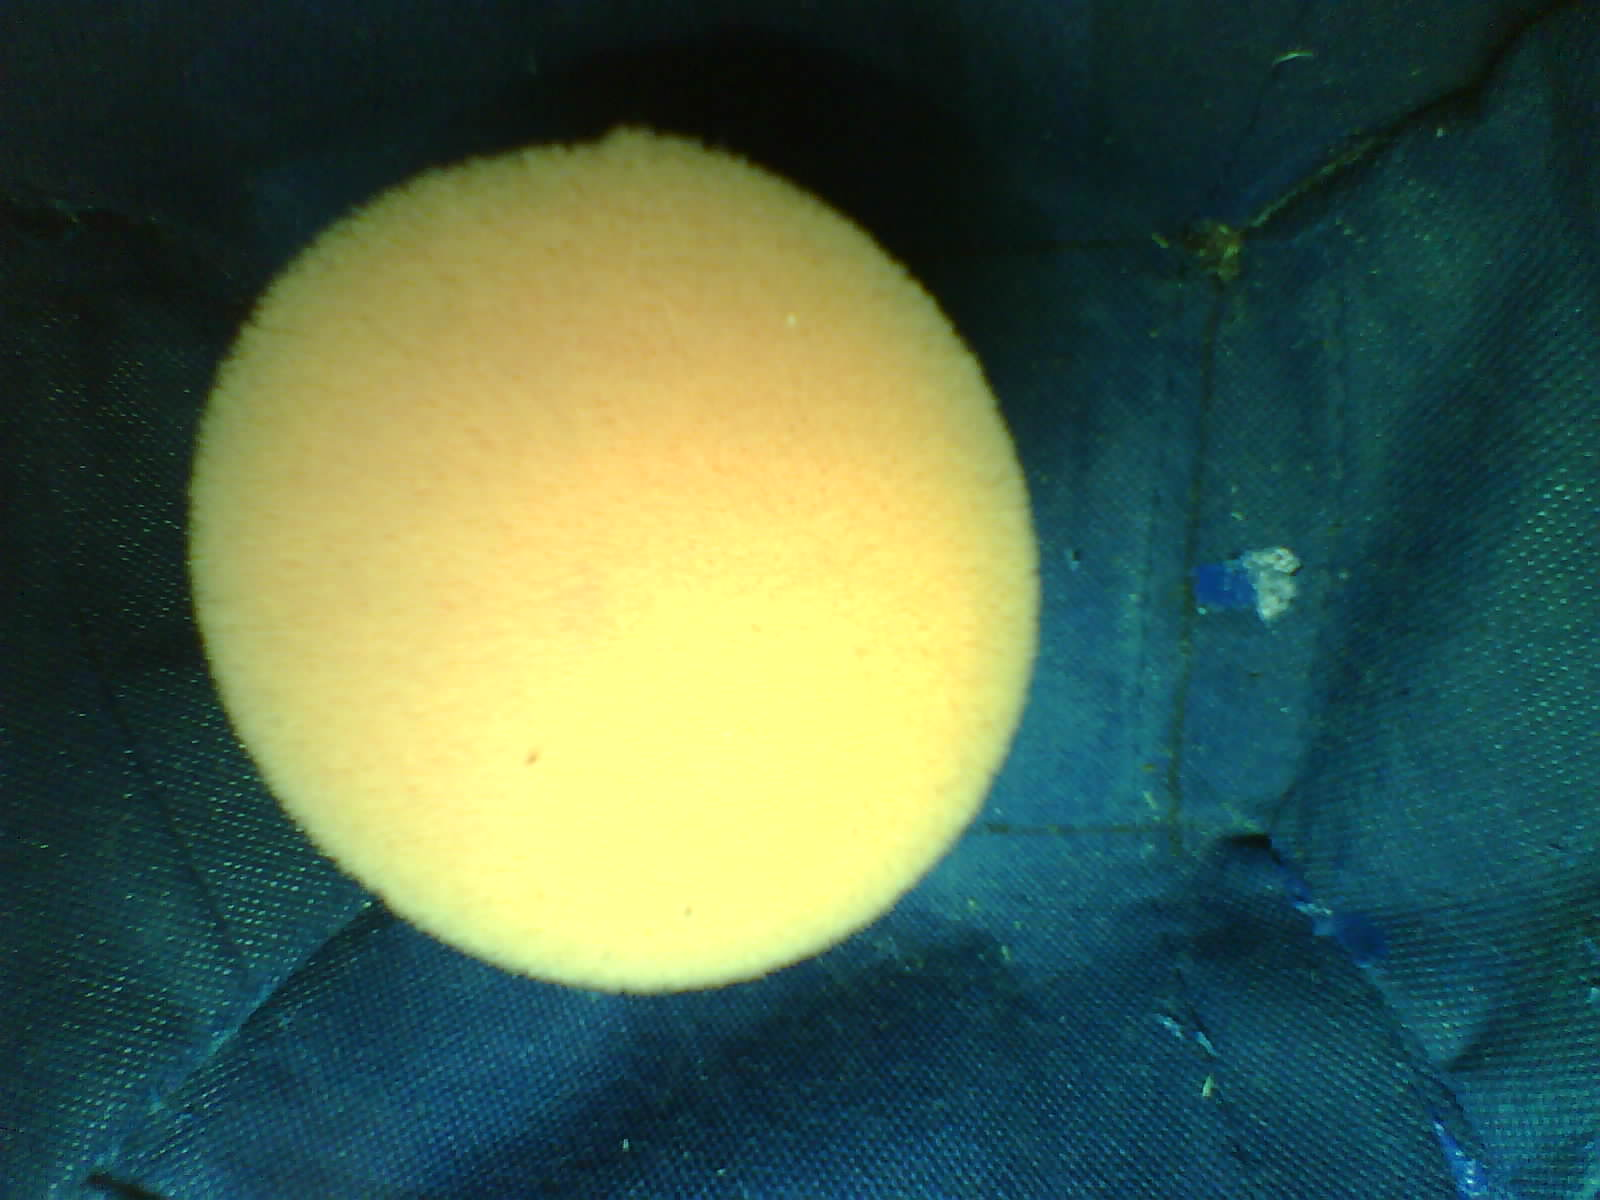cylinder-soft: (155, 127, 1086, 1029)
